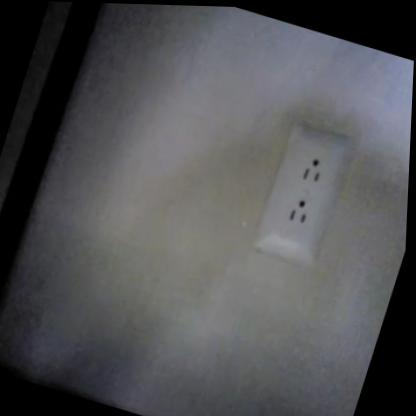OUTLET: (252, 120, 356, 271)
